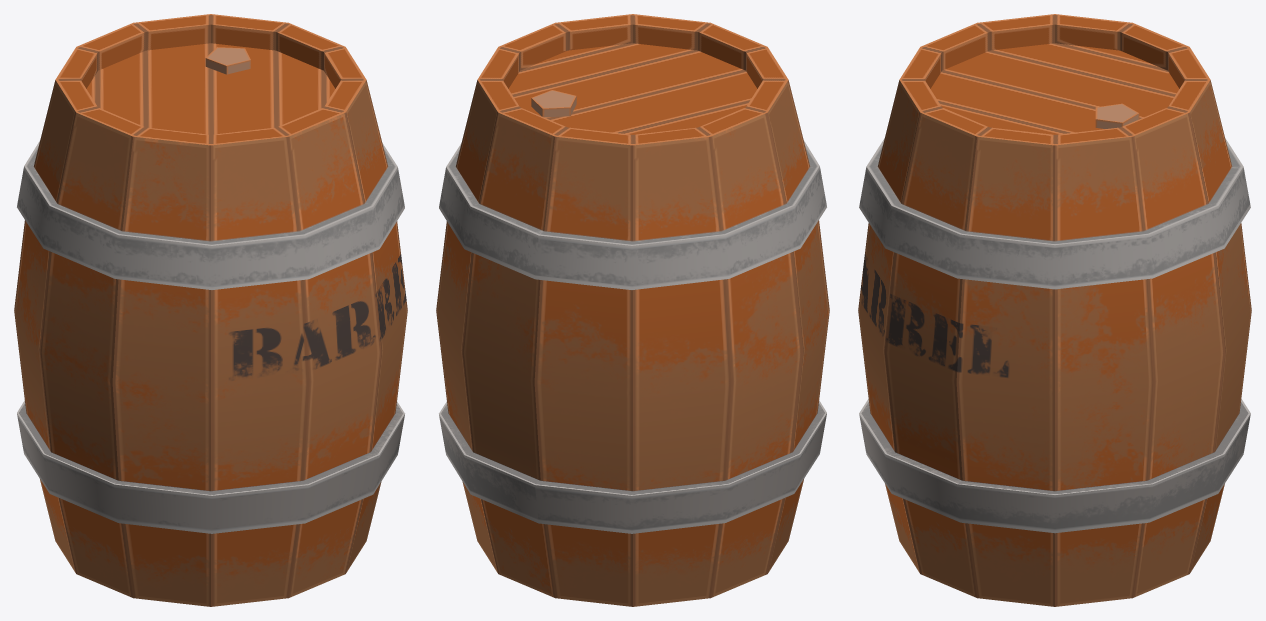
Rendered from Barrel.fbx.
3 renders of one model, left to right at view 1: azimuth 30°, elevation 25°; view 2: azimuth 150°, elevation 25°; view 3: azimuth 270°, elevation 25°, orthographic.
Parts seen in each view (by area): view 1: Barrel; view 2: Barrel; view 3: Barrel.
Boxes of the visible parts, bbox=[...] form: Barrel: bbox=[14, 14, 407, 606]; Barrel: bbox=[436, 14, 829, 606]; Barrel: bbox=[858, 14, 1251, 606].
Size of the model in its own units: 69.59 by 90 by 69.59.
